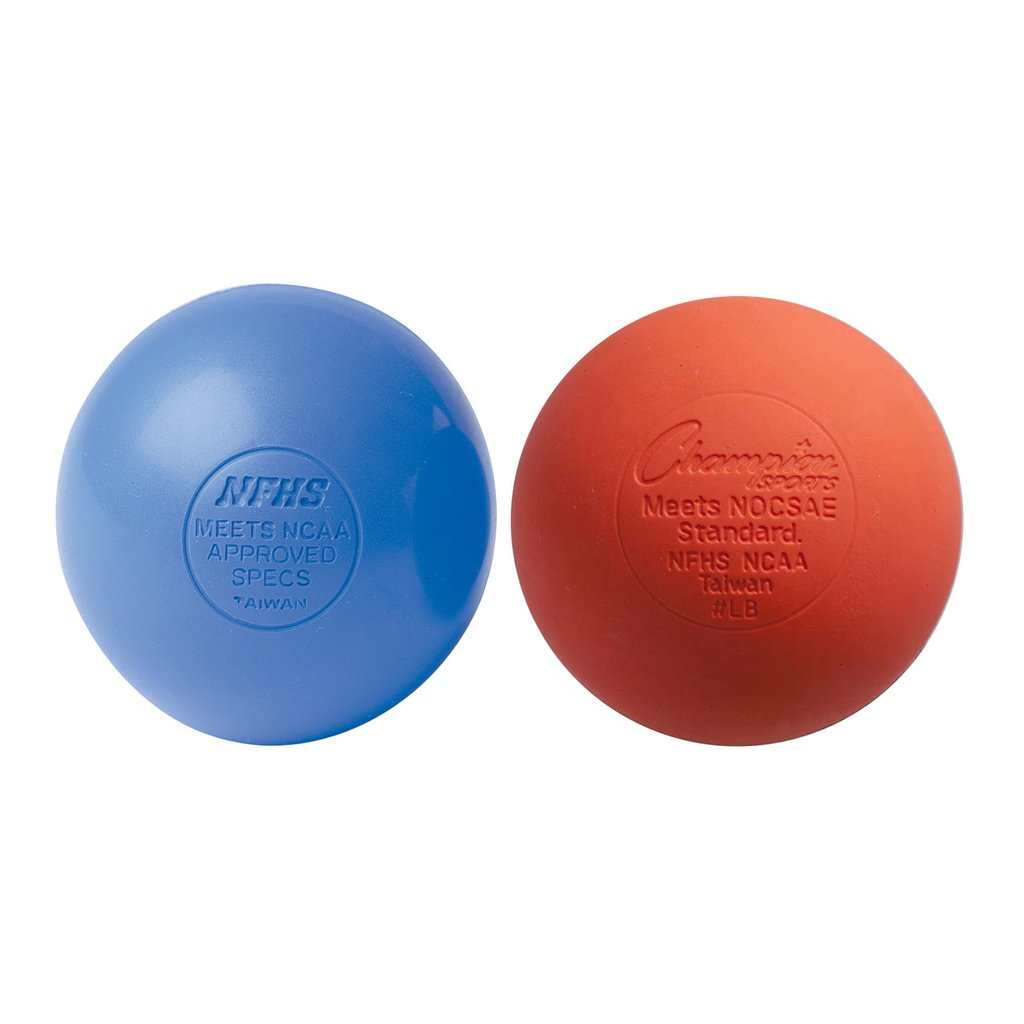blue ball: (52, 283, 499, 747)
red ball: (503, 294, 964, 750)
